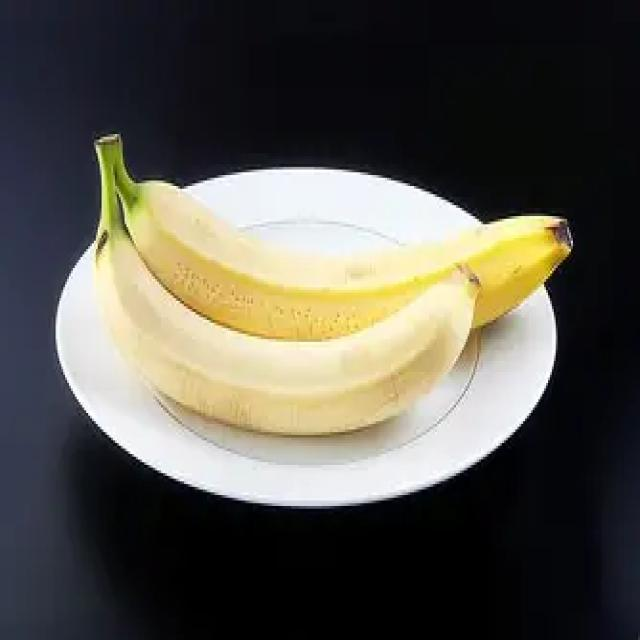BANANA: (92, 130, 575, 444)
